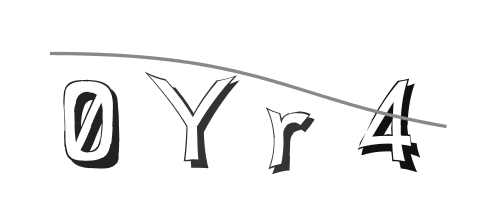0: (61, 76, 121, 171)
4: (355, 73, 426, 172)
Y: (143, 65, 241, 170)
r: (259, 99, 316, 175)
